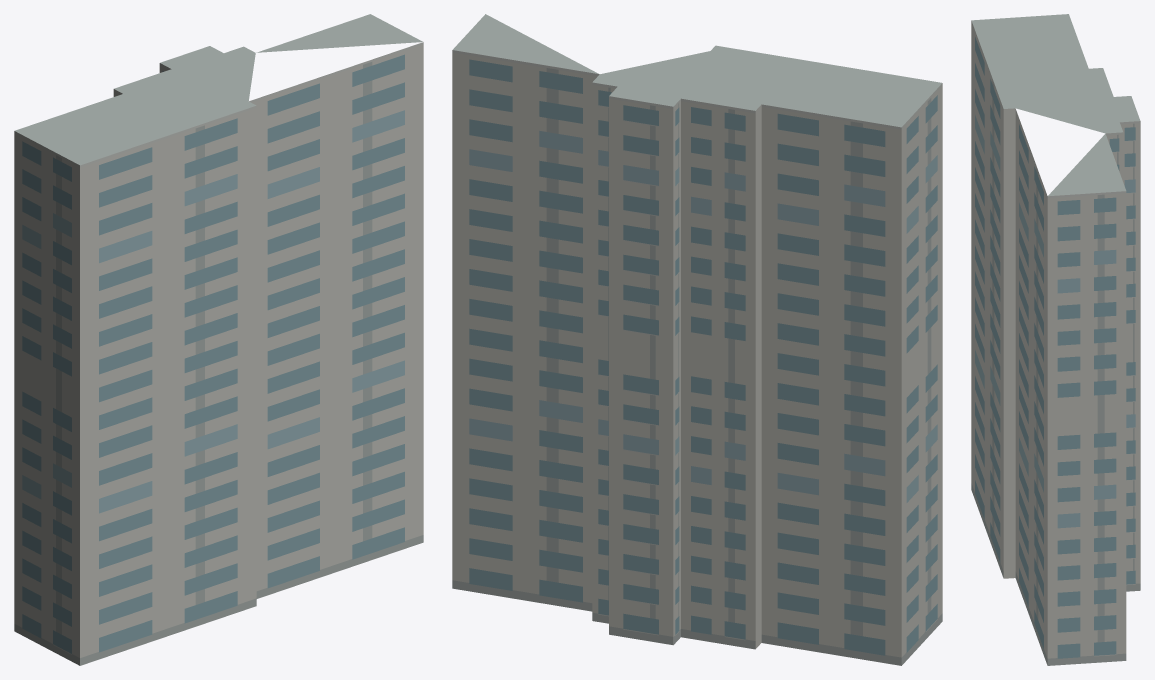
Rendered from residential-d392d3ab-631f-4f7d-b6b5-8d73dd3da443.glb.
3 renders of one model, left to right at view 1: azimuth 30°, elevation 25°; view 2: azimuth 150°, elevation 25°; view 3: azimuth 270°, elevation 25°, orthographic. The views are drawn at different scales.
Visible parts, largest first — view 1: residential-d392d3ab-631f-4f7d-b6b5-8d73dd3da443.tmp; view 2: residential-d392d3ab-631f-4f7d-b6b5-8d73dd3da443.tmp; view 3: residential-d392d3ab-631f-4f7d-b6b5-8d73dd3da443.tmp.
Part boxes in pixels (box(x1,y1,x2,y2)): residential-d392d3ab-631f-4f7d-b6b5-8d73dd3da443.tmp: box(14, 14, 423, 665); residential-d392d3ab-631f-4f7d-b6b5-8d73dd3da443.tmp: box(452, 14, 942, 665); residential-d392d3ab-631f-4f7d-b6b5-8d73dd3da443.tmp: box(971, 14, 1140, 665).
Size of the model in its own units: 45.69 by 54.9 by 17.92.
